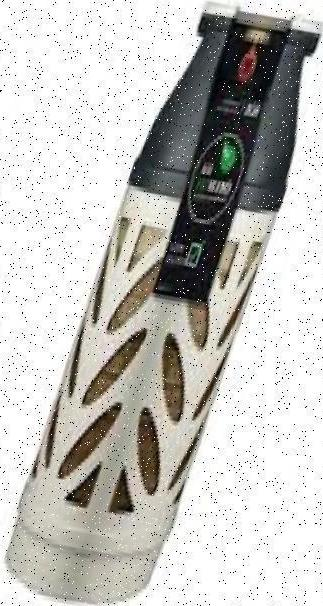cylinder: (1, 0, 323, 606)
